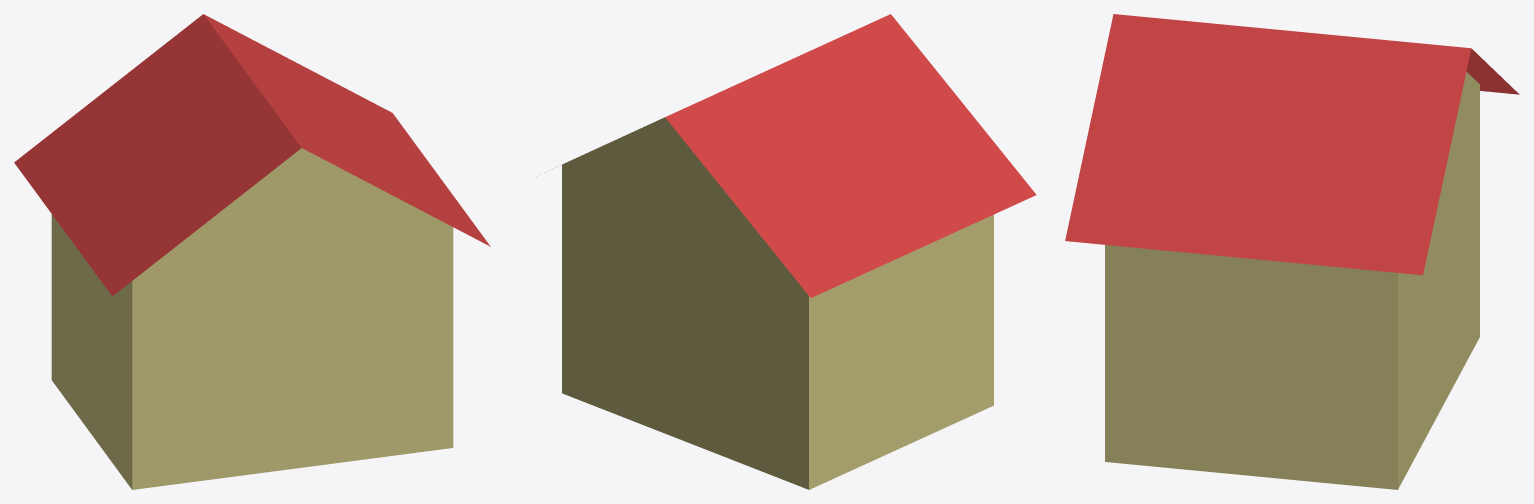
3 renders of one model, left to right at view 1: azimuth 30°, elevation 25°; view 2: azimuth 150°, elevation 25°; view 3: azimuth 270°, elevation 25°, orthographic. The views are drawn at different scales.
Visible parts, largest first — view 1: group_5, group_3, group_4; view 2: group_5, group_3, group_4; view 3: group_5, group_3, group_4.
Part boxes in pixels (left/top/right/bottom): group_5: left=51, top=148, right=453, bottom=489; group_3: left=14, top=14, right=489, bottom=296; group_4: left=15, top=14, right=490, bottom=246; group_5: left=562, top=117, right=993, bottom=489; group_3: left=557, top=14, right=1036, bottom=297; group_4: left=631, top=108, right=810, bottom=296; group_5: left=1105, top=72, right=1479, bottom=489; group_3: left=1066, top=17, right=1519, bottom=275; group_4: left=1065, top=14, right=1518, bottom=274.
Size of the model in its own units: 15.26 by 13.65 by 12.19.
